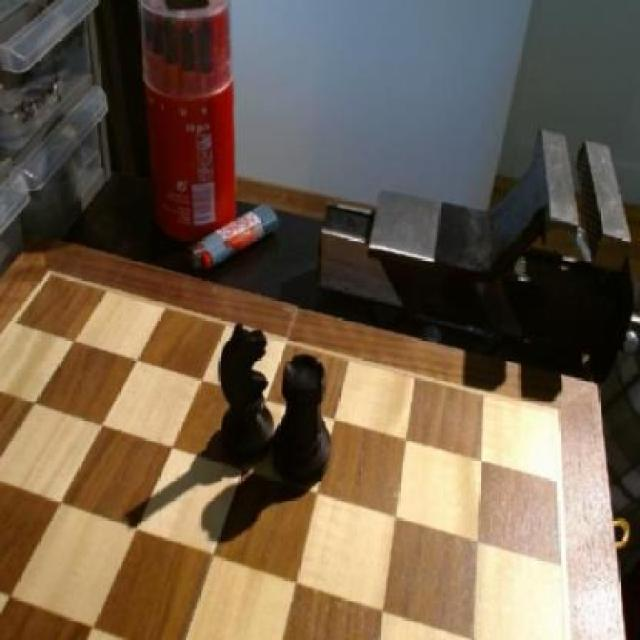black-king: (211, 317, 278, 465)
black-queen: (274, 346, 338, 487)
